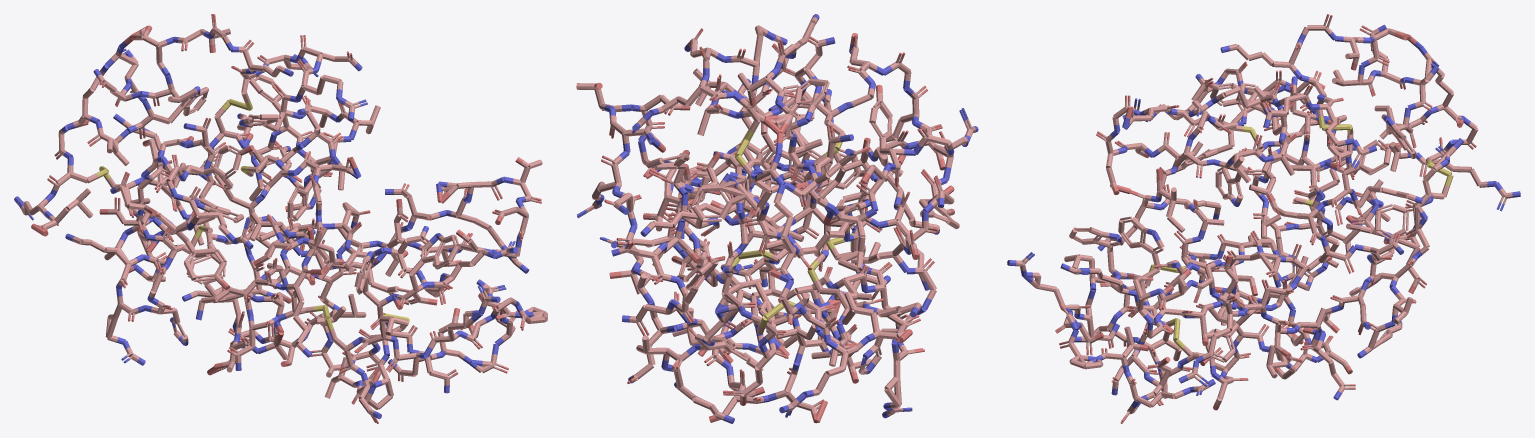
Rendered from 1lyz__sticks__default.glb.
3 renders of one model, left to right at view 1: azimuth 30°, elevation 25°; view 2: azimuth 150°, elevation 25°; view 3: azimuth 270°, elevation 25°, orthographic. The views are drawn at different scales.
Visible parts, largest first — view 1: Renderer Node; view 2: Renderer Node; view 3: Renderer Node.
Boxes of the visible parts, x1,y1,x2,y2 form: Renderer Node: (14,14,547,423); Renderer Node: (576,14,978,423); Renderer Node: (1007,14,1520,423).
Bounding box in the file's own units: 38.95 × 32.98 × 44.29.
